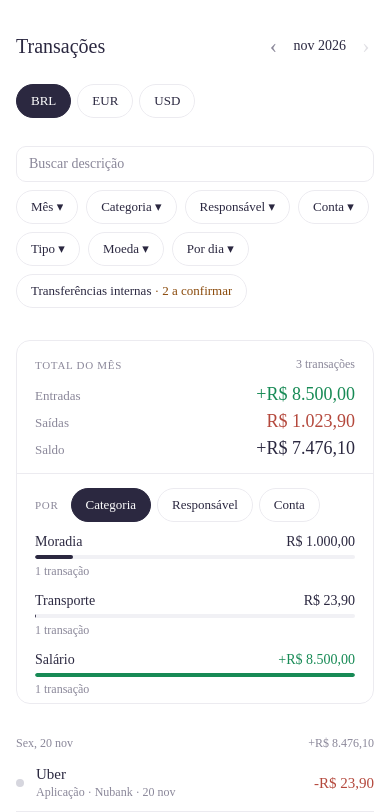
Test: TransactionsScreen: what the old app had › filters by type and currency, and clears everything at once
The image size is (390, 812).
Step 1. Click the button "Tipo ▾" → click(48, 249), box [16,232,80,266]
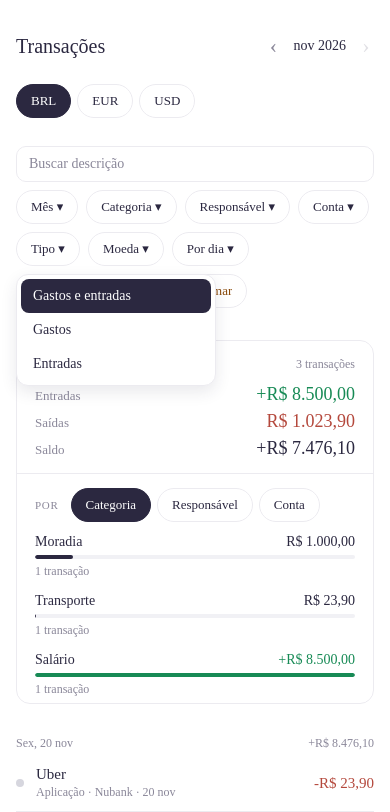
Step 2. Click the menu item "Gastos" → click(52, 330), box [33,322,71,337]
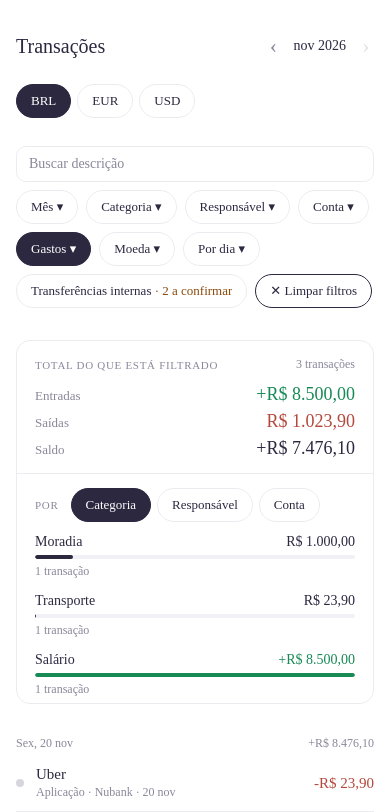
Step 3. Click the button "Moeda ▾" → click(137, 249), box [99,232,175,266]
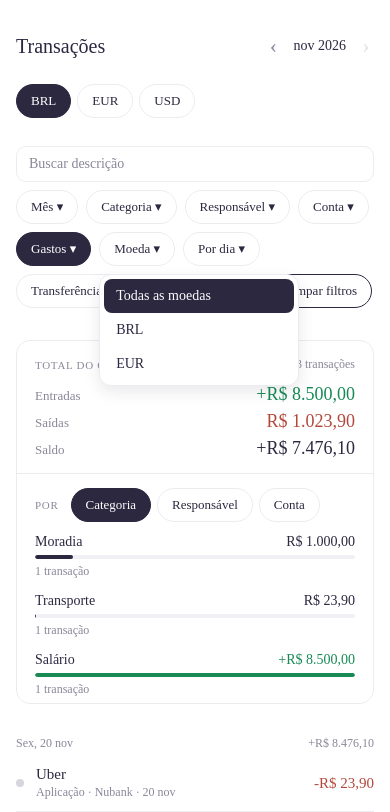
Step 4. Click the menu item "EUR" → click(130, 364), box [116,356,144,371]
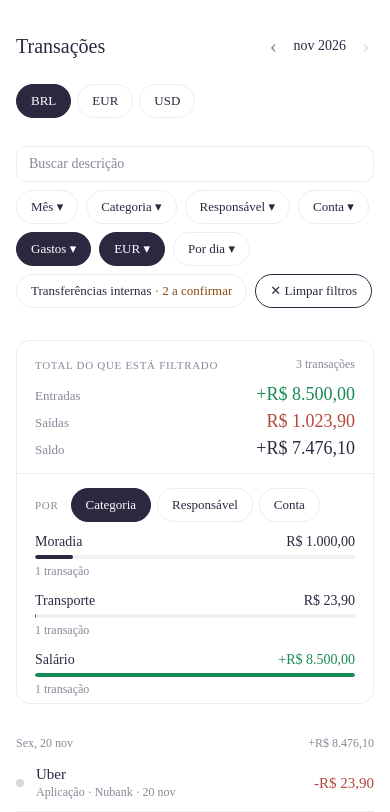
Step 5. Click the button labelled "✕ Limpar filtros" → click(314, 291), box [255,274,372,308]
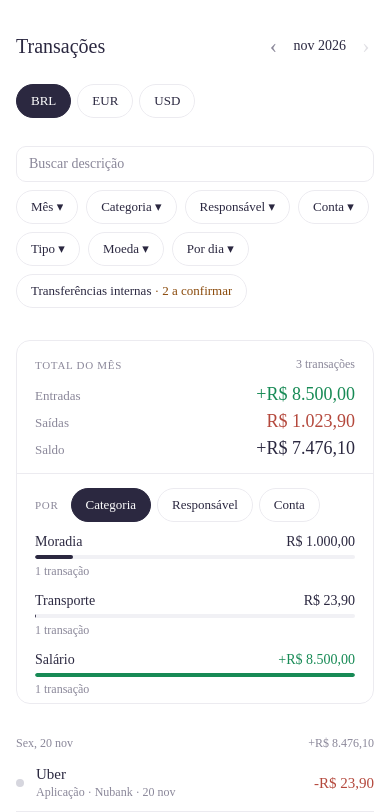
Now the button labelled "Limpar filtros" is gone
